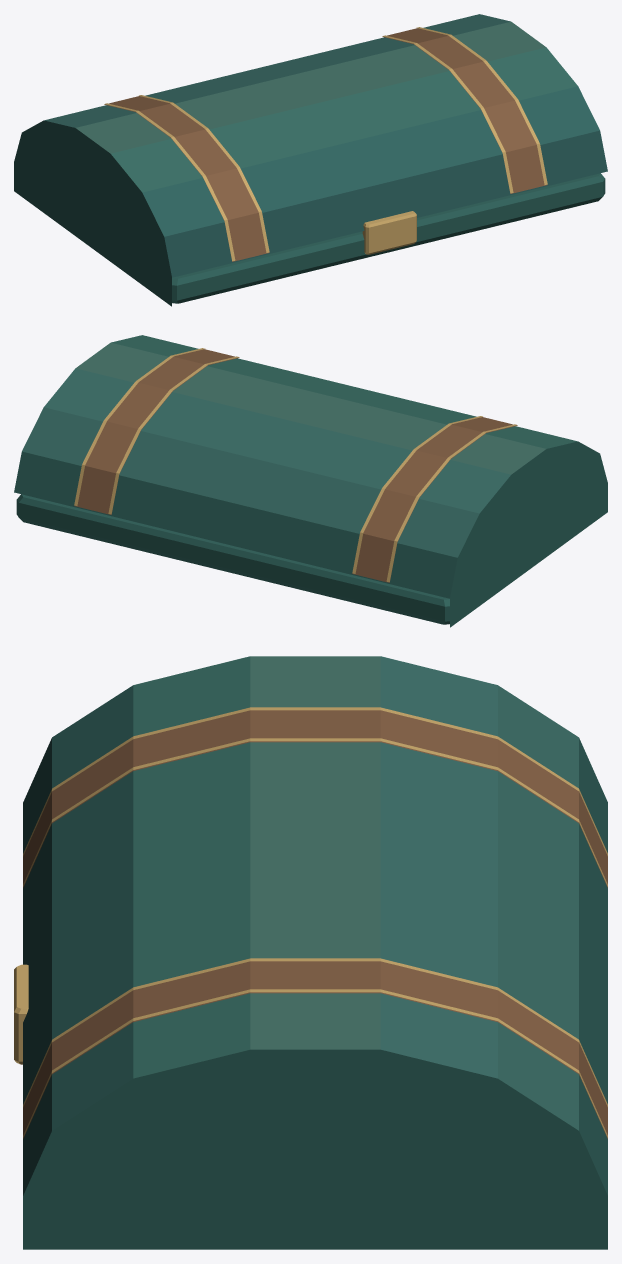
Rendered from sea_trunk_lid.glb.
3 renders of one model, top to bottom at view 1: azimuth 30°, elevation 25°; view 2: azimuth 150°, elevation 25°; view 3: azimuth 270°, elevation 25°, orthographic. The views are drawn at different scales.
Parts seen in each view (by area): view 1: sea_trunk_lid; view 2: sea_trunk_lid; view 3: sea_trunk_lid.
Boxes of the visible parts, box(x1,y1,x2,y2) form: sea_trunk_lid: box(14, 14, 607, 306); sea_trunk_lid: box(14, 335, 607, 627); sea_trunk_lid: box(14, 656, 607, 1249).
Bounding box in the file's own units: 0.815 × 0.1964 × 0.52.
